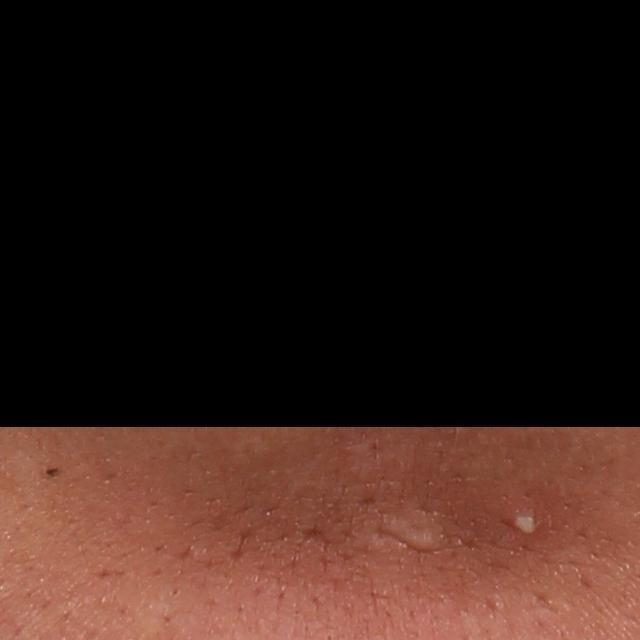atrophic_scar: (297, 526, 330, 550)
hypertrophic_scar: (386, 517, 440, 552)
nevus: (44, 467, 62, 477)
pustule: (496, 498, 553, 539)
